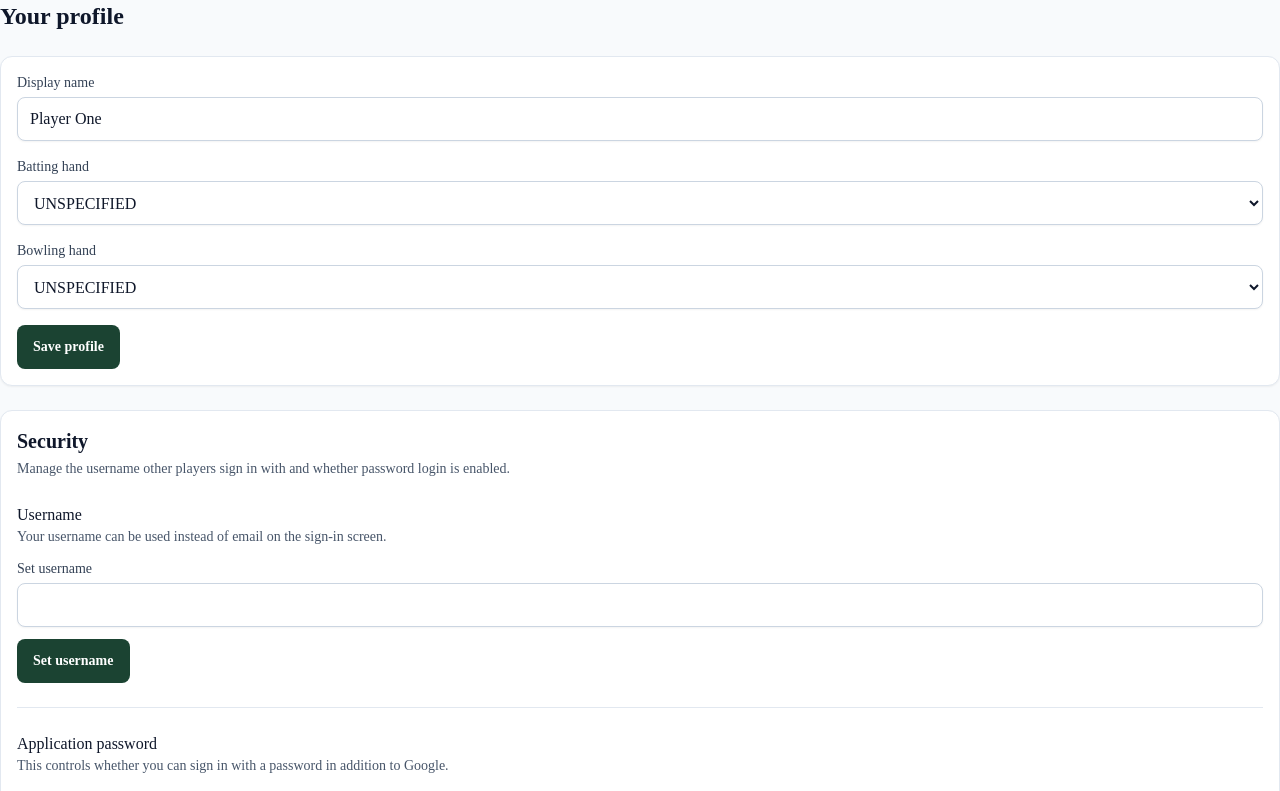
Test: AppProfilePage › shows a validation error from the API
Check: the field showing "Player One" is shown, box [17,97,1263,141]
Click the button "Save profile". click: (68, 347)
box: [17,325,120,369]
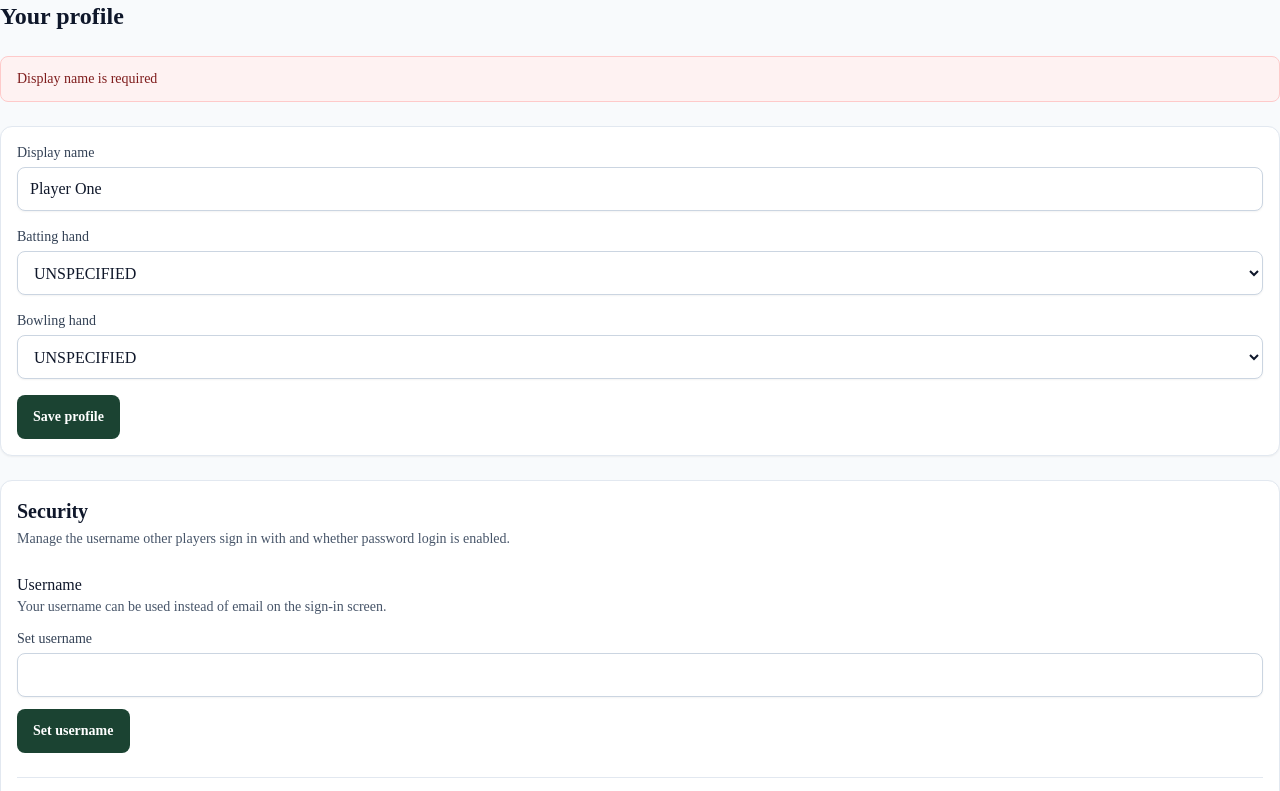
Check: the text "Display name is required" is shown, box [17,71,157,86]
